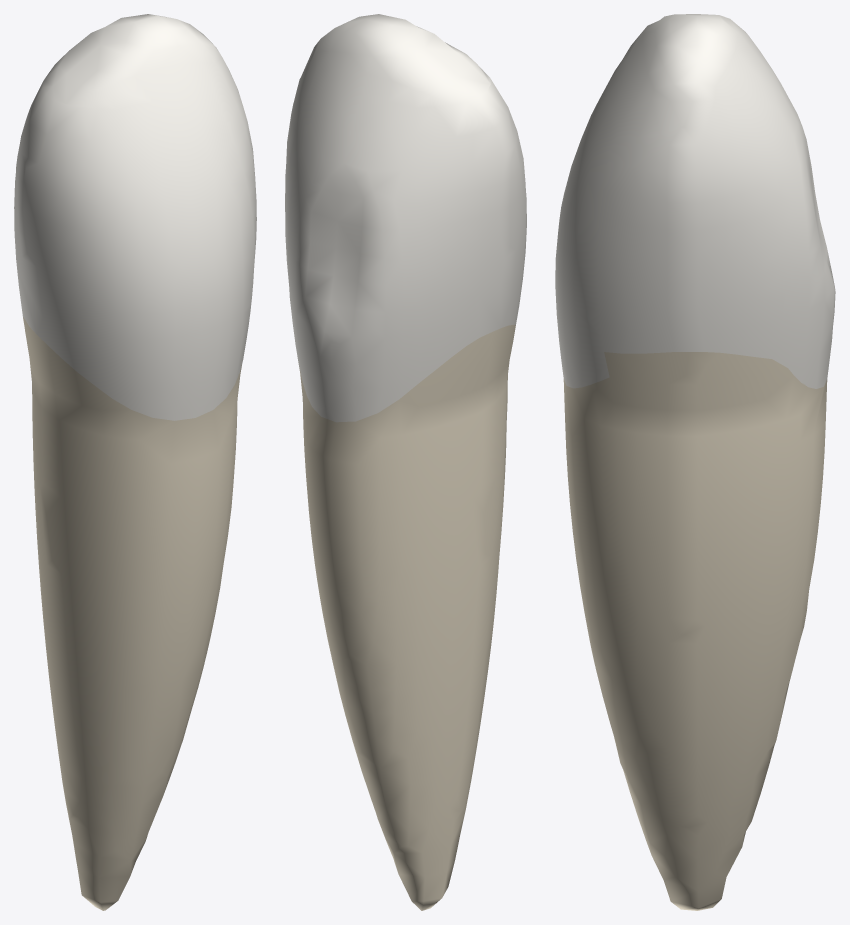
3 renders of one model, left to right at view 1: azimuth 30°, elevation 25°; view 2: azimuth 150°, elevation 25°; view 3: azimuth 270°, elevation 25°, orthographic. The views are drawn at different scales.
Visible parts, largest first — view 1: root, V, D, I, M; view 2: root, L, D, I, M; view 3: root, M, L, V, I.
Boxes of the visible parts, x1,y1,x2,y2 form: root: [23, 317, 241, 910]; V: [95, 83, 254, 420]; D: [14, 81, 115, 385]; I: [43, 14, 222, 110]; M: [212, 58, 256, 267]; root: [297, 325, 515, 910]; L: [288, 84, 421, 422]; D: [415, 78, 526, 382]; I: [312, 14, 490, 107]; M: [285, 48, 323, 350]; root: [563, 352, 827, 910]; M: [597, 92, 785, 364]; L: [748, 53, 835, 388]; V: [555, 48, 636, 388]; I: [625, 14, 762, 101].
Size of the model in its own units: 6.97 by 26.89 by 7.48.
